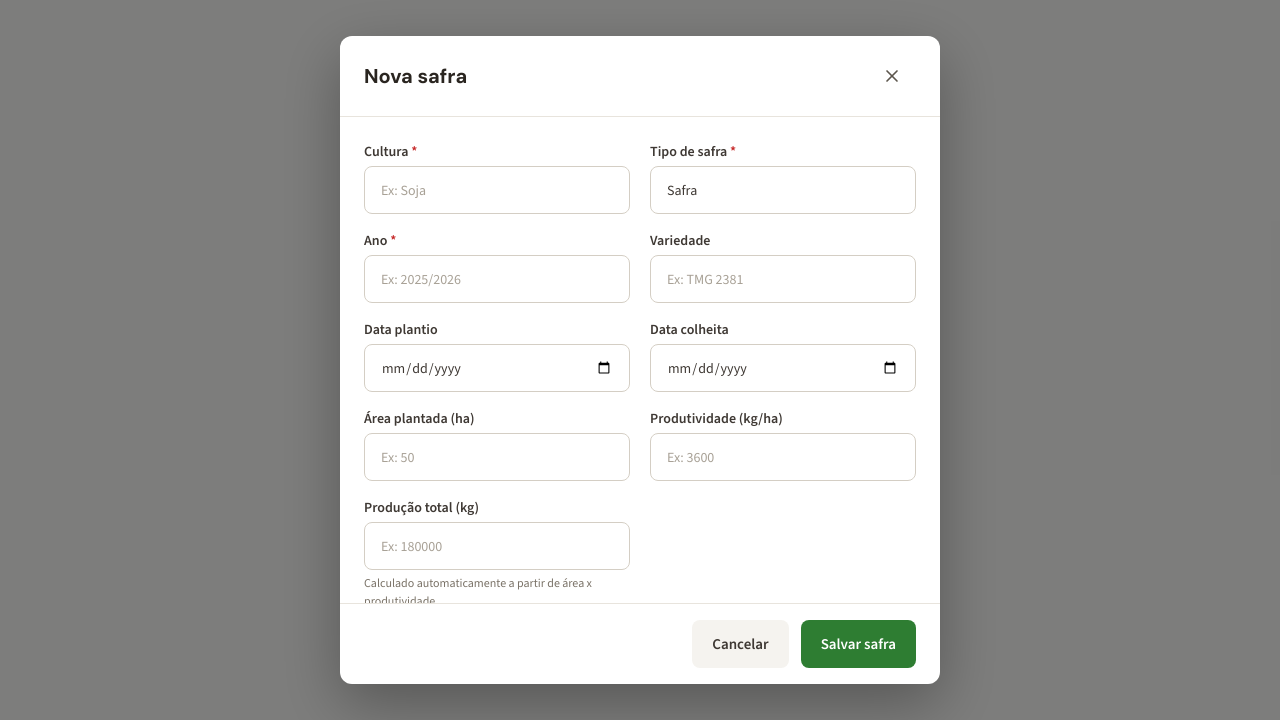
Test: AddCropSeasonModal › shows validation error when submitting with empty required fields
Click the button "Salvar safra".
click(858, 644)  # box [801,620,916,668]
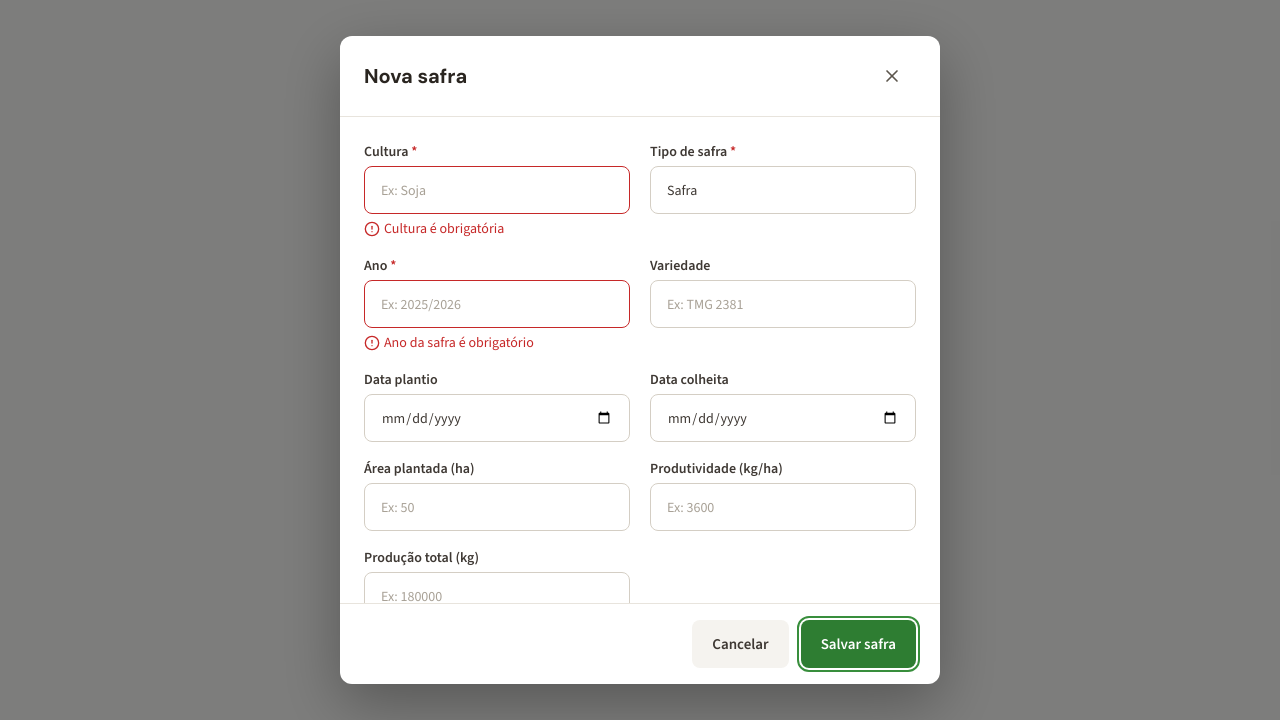
Now the text "Cultura é obrigatória" is shown, box [364,219,504,238]
Now the text "Ano da safra é obrigatório" is shown, box [364,333,534,352]
